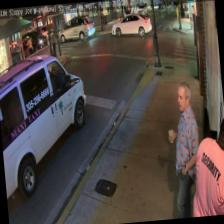person: (164, 81, 204, 217)
